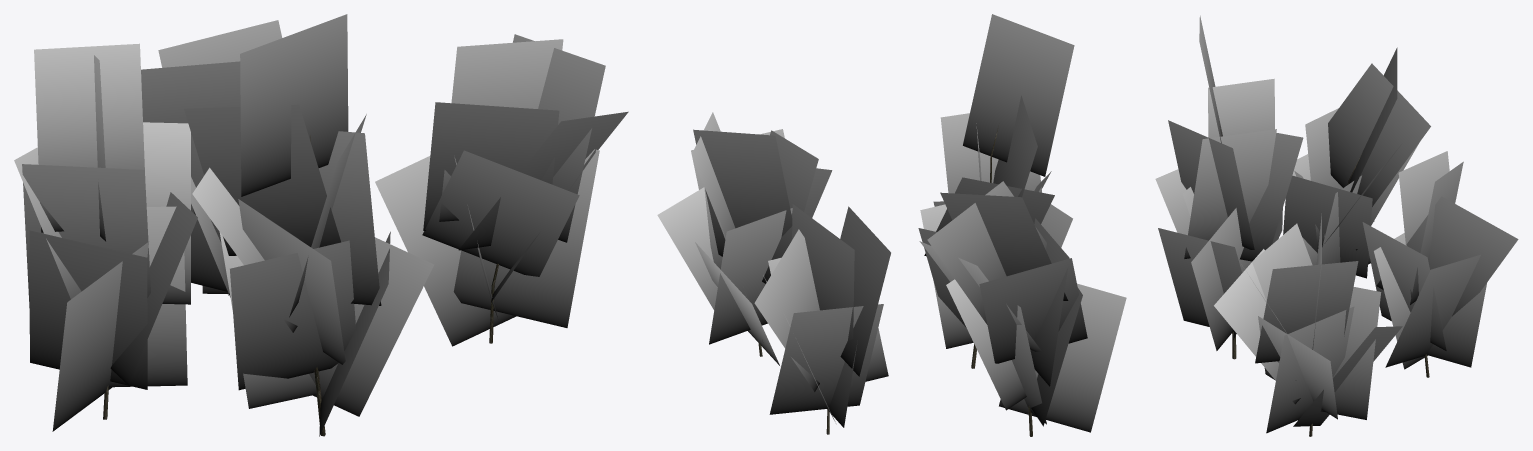
Rendered from tree17.fbx.
3 views of the same model, side by side, from view 1: azimuth 30°, elevation 25°; view 2: azimuth 150°, elevation 25°; view 3: azimuth 270°, elevation 25° (orthographic). The views are drawn at different scales.
Parts seen in each view (by area): view 1: tree17_branchq, tree17_branchq1, tree17_bark; view 2: tree17_branchq, tree17_branchq1; view 3: tree17_branchq, tree17_branchq1.
Part boxes in pixels (x1,y1,x2,y2): tree17_branchq: (14, 14, 628, 436); tree17_branchq1: (16, 14, 624, 430); tree17_bark: (103, 135, 498, 436); tree17_branchq: (657, 14, 1126, 432); tree17_branchq1: (658, 14, 1125, 426); tree17_branchq: (1155, 16, 1518, 433); tree17_branchq1: (1157, 22, 1516, 426).
Size of the model in its own units: 6.45 by 4.77 by 4.94.
